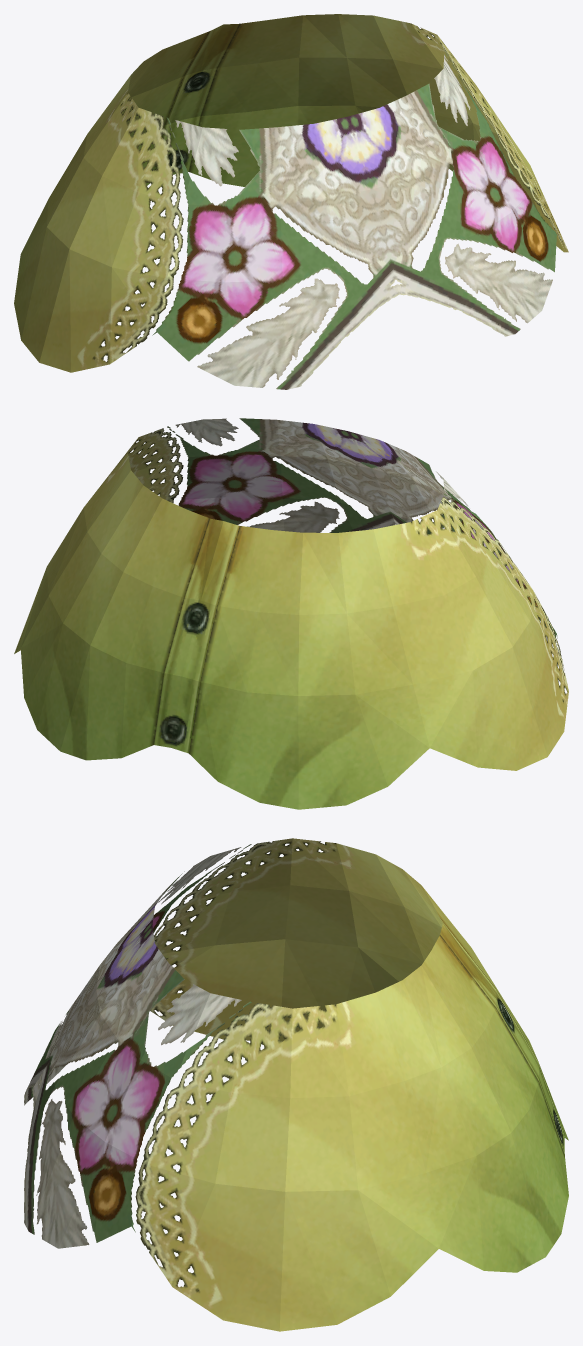
The model's file is skinSource0PME.obj.
3 views of the same model, one above another, from view 1: azimuth 30°, elevation 25°; view 2: azimuth 150°, elevation 25°; view 3: azimuth 270°, elevation 25° (orthographic). The views are drawn at different scales.
Parts seen in each view (by area): view 1: skinSource0PME; view 2: skinSource0PME; view 3: skinSource0PME.
Boxes of the visible parts, x1,y1,x2,y2 form: skinSource0PME: [14, 14, 568, 389]; skinSource0PME: [14, 418, 568, 809]; skinSource0PME: [24, 838, 568, 1331].
Bounding box in the file's own units: 52.68 × 22.57 × 42.64.
